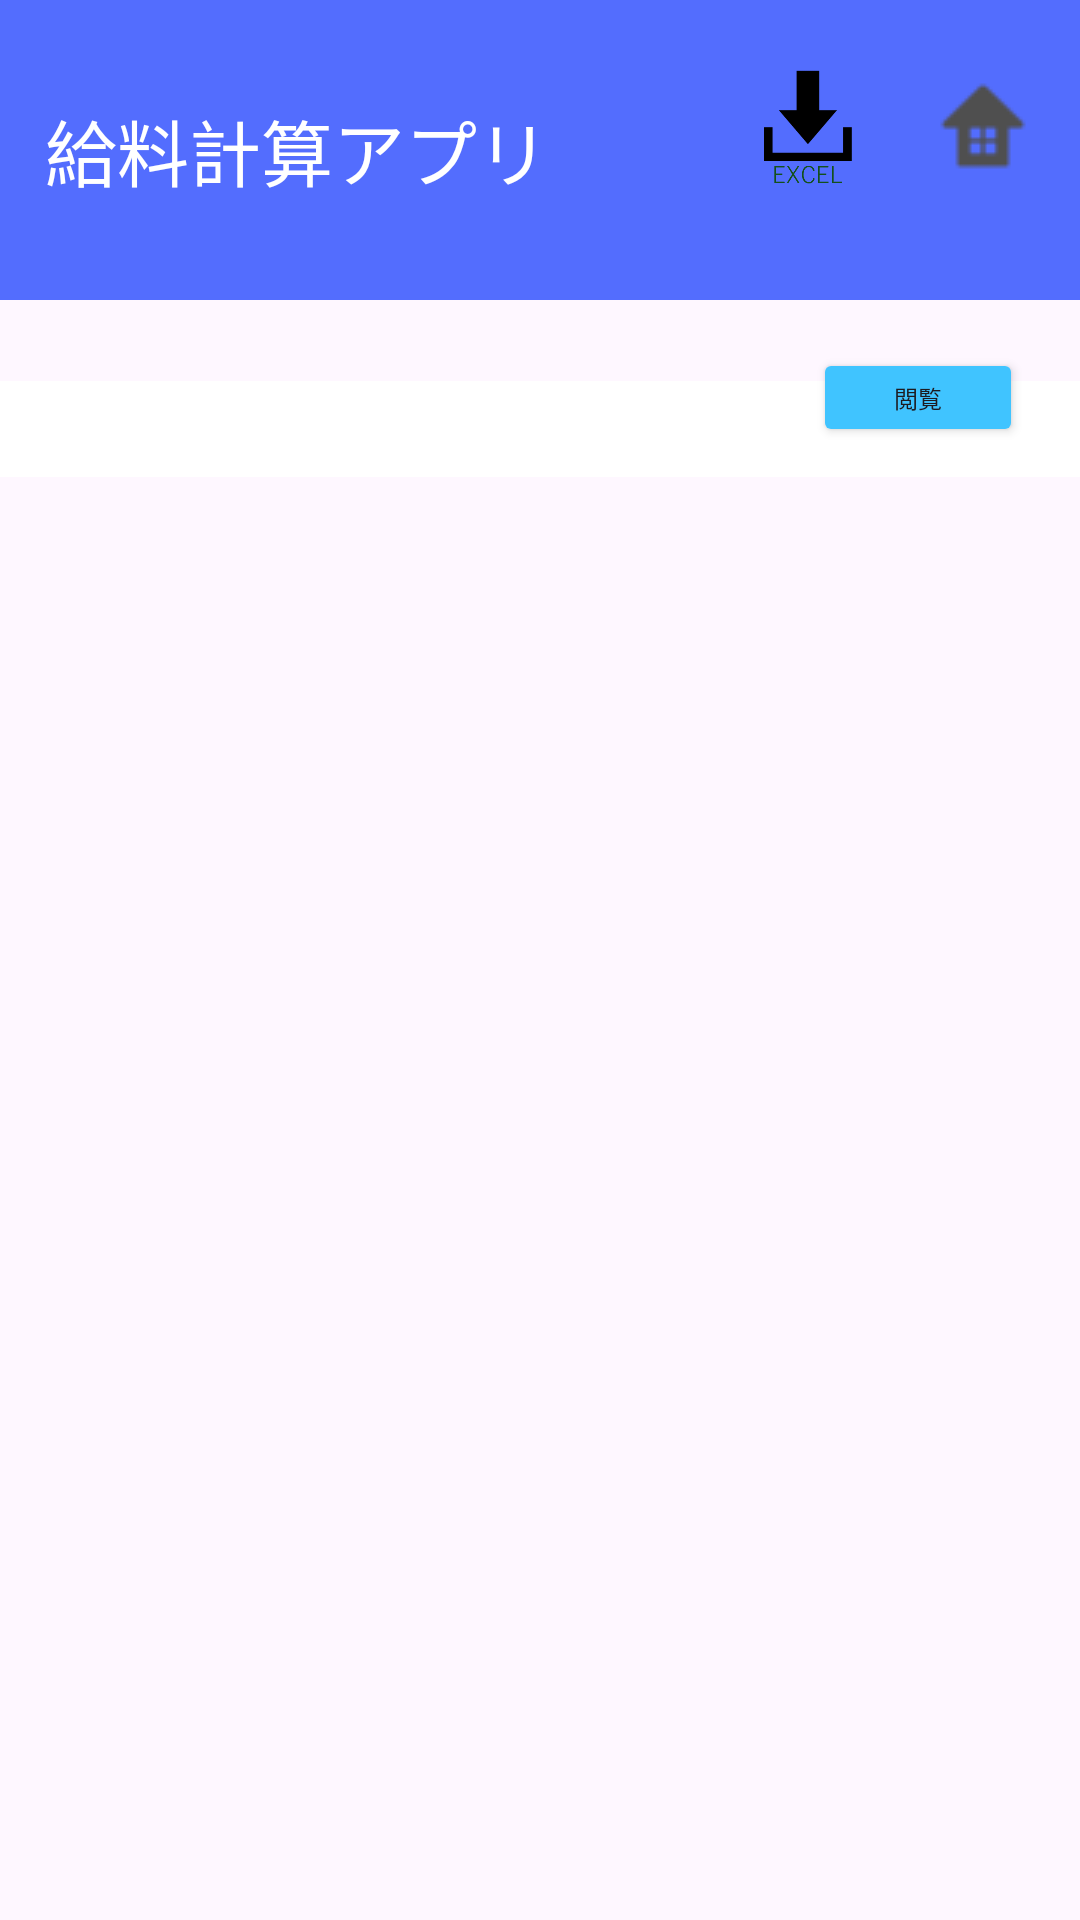

Where icons sit on this 1080×1920 app screen, as box=[x1, y1, x2, y2]:
home: box=[941, 84, 1025, 169]
